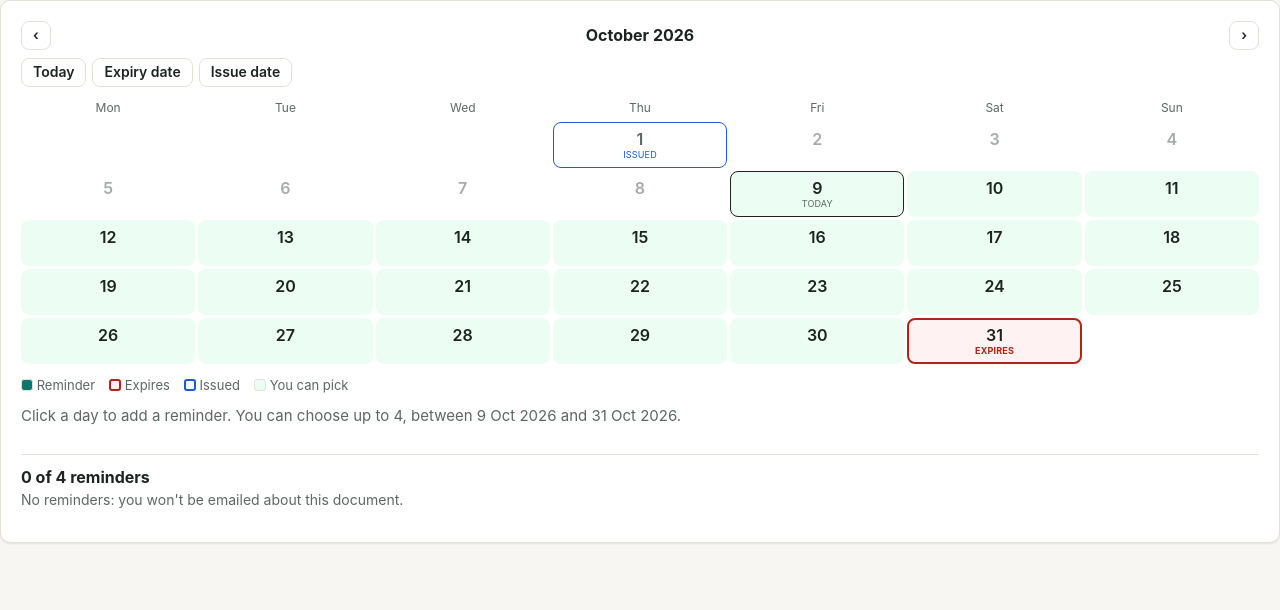
Test: ReminderCalendar: the error messages › refuses a day after the expiry date
Click the button named "Next month": (1244, 35) [1229,21,1259,50]
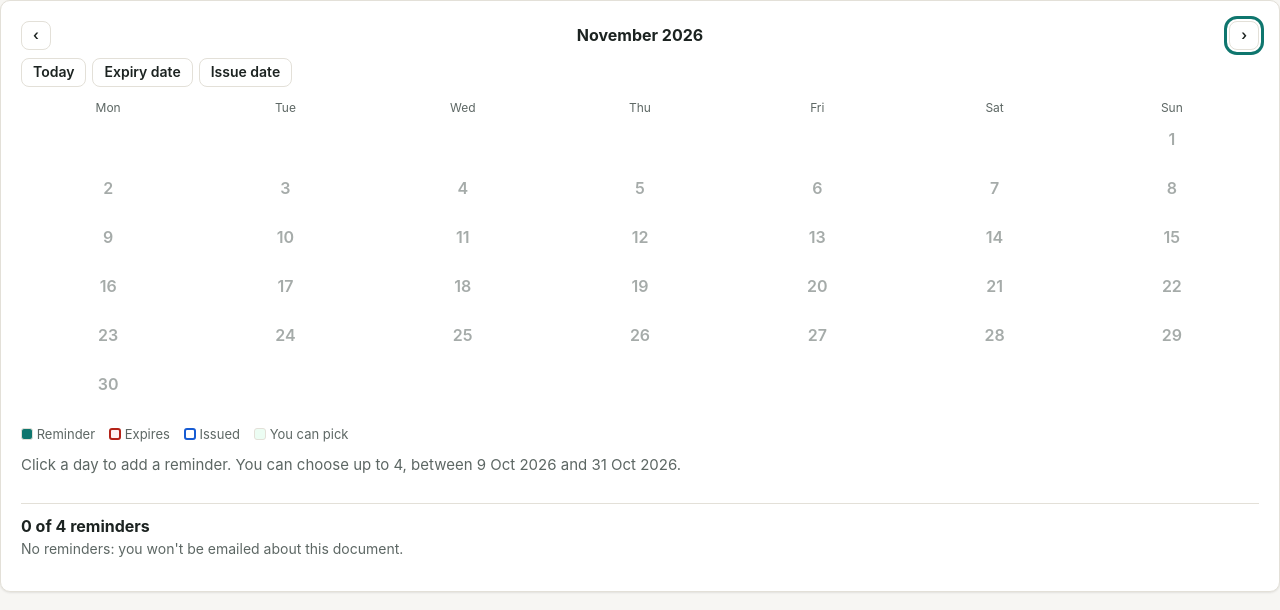
Click the button named "Monday, 2 November 2026": (108, 194) [21,171,195,217]
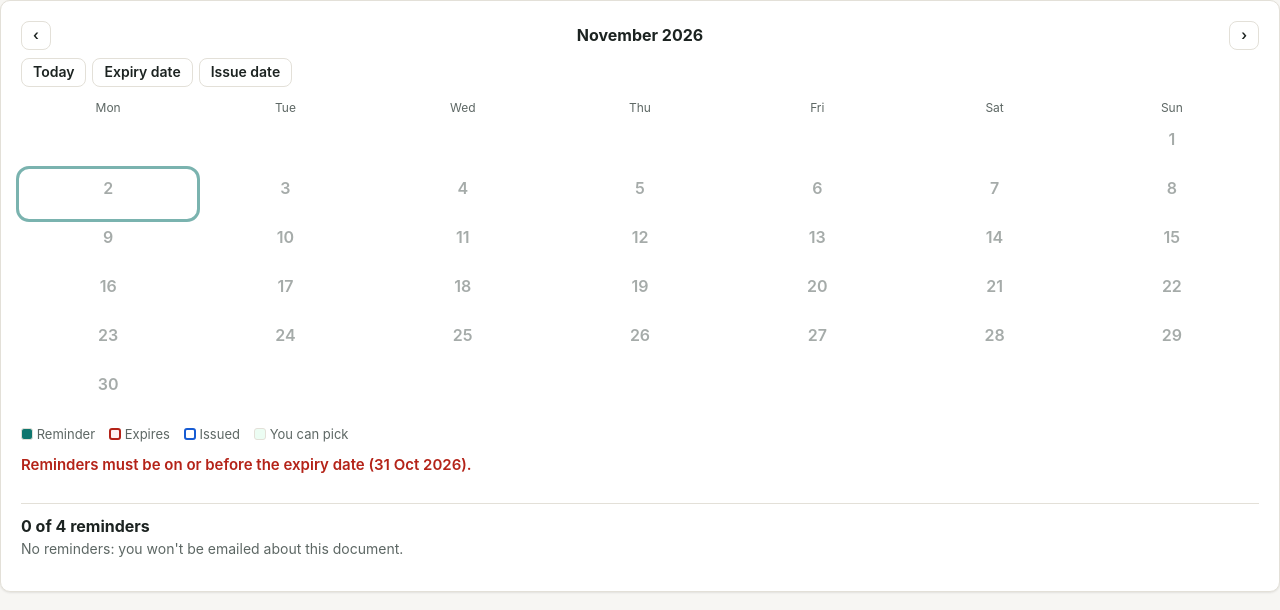
Check: the message reads "Reminders must be on or before the expiry date (31 Oct 2026).", box [21,455,472,474]
